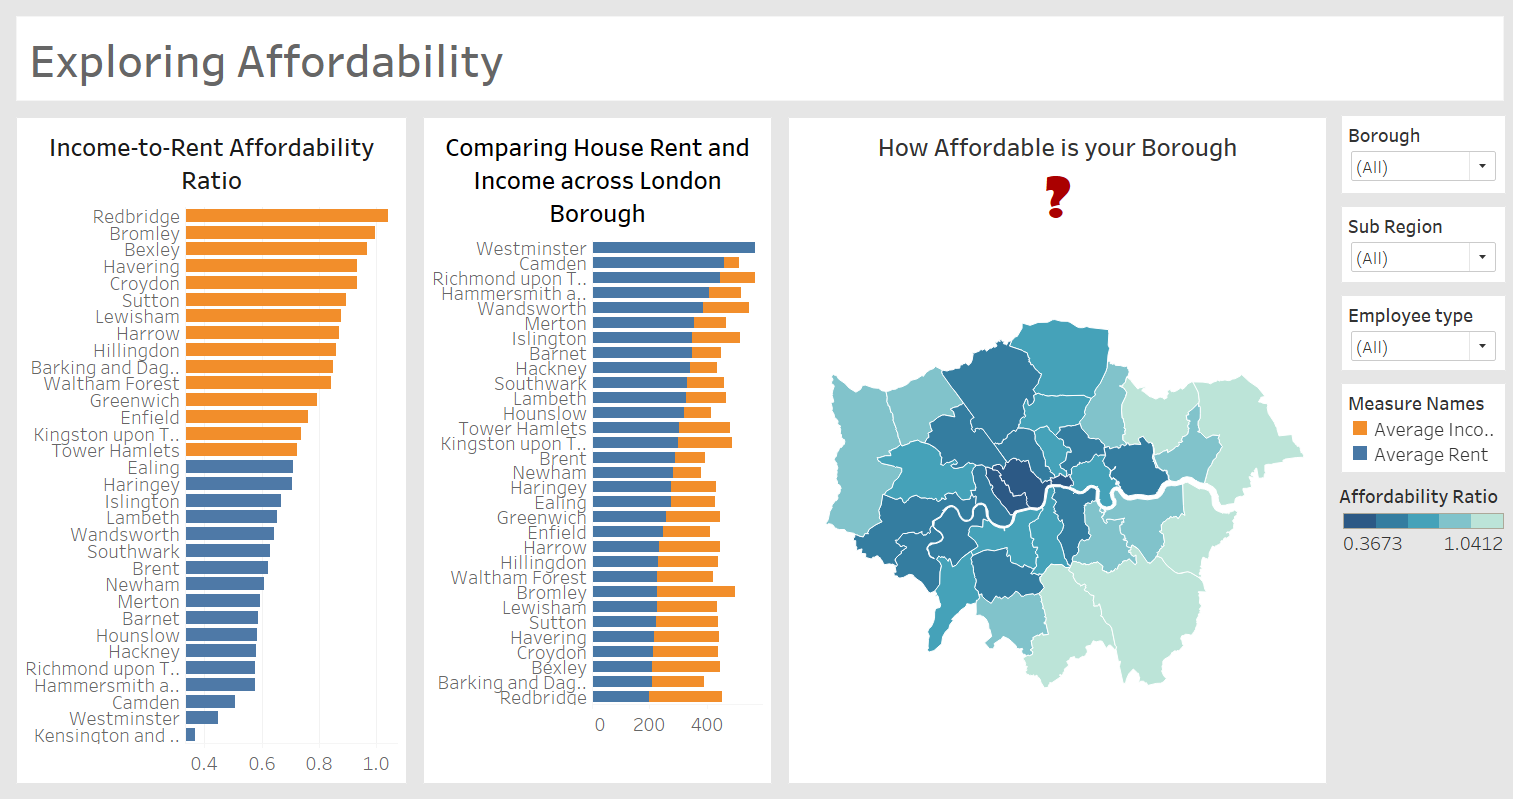

This screenshot's page, from the dashboard's own definition file:
{"tool":"tableau","page":{"name":"Dashboard 3","canvas":[1520,800],"ordinal":2},"visuals":[{"type":"text","box":[8,8,1504,101]},{"type":"worksheet","title":"Affordability Ratio","mark":"Automatic","rows":["Borough"],"cols":["Calculation_346777236112543744"],"box":[8,109,407,682.9]},{"type":"worksheet","title":"Rent & Income Com.","mark":"Bar","rows":["Borough"],"cols":["Pay (£)","Price_weekly"],"box":[415,109,365,682.9]},{"type":"worksheet","title":"Aff. Map","mark":"Multipolygon","box":[780,109,555,682.9]},{"type":"filter","title":"Affordability Ratio","param":"[federated.0mtfeyj0am8fze13vt68h0kjogjt].[none:Borough:nk]","box":[1335,109,177,91]},{"type":"filter","title":"Affordability Ratio","param":"[federated.0mtfeyj0am8fze13vt68h0kjogjt].[Borough (group)]","box":[1335,200,177,89]},{"type":"filter","title":"Rent & Income Com.","param":"[federated.0mtfeyj0am8fze13vt68h0kjogjt].[none:Table Name:nk]","box":[1335,289,177,88]},{"type":"legend","title":"Rent & Income Com.","param":"[federated.0mtfeyj0am8fze13vt68h0kjogjt].[:Measure Names]","box":[1335,377,177,102]},{"type":"legend","title":"Aff. Map","param":"[federated.0mtfeyj0am8fze13vt68h0kjogjt].[usr:Calculation_346777236112543744:qk]","box":[1335,479,177,81]}]}

Visuals, with their boxes in screenshot pixels (x1, y1, x2, y2), scaled from the page's 1520x800 canvas onto the 1513x799 screenshot:
text: [left=8, top=8, right=1505, bottom=109]
"Affordability Ratio" worksheet: [left=8, top=109, right=413, bottom=791]
"Rent & Income Com." worksheet (Bar marks): [left=413, top=109, right=776, bottom=791]
"Aff. Map" worksheet (Multipolygon marks): [left=776, top=109, right=1329, bottom=791]
"Affordability Ratio" filter: [left=1329, top=109, right=1505, bottom=200]
"Affordability Ratio" filter: [left=1329, top=200, right=1505, bottom=289]
"Rent & Income Com." filter: [left=1329, top=289, right=1505, bottom=377]
"Rent & Income Com." legend: [left=1329, top=377, right=1505, bottom=478]
"Aff. Map" legend: [left=1329, top=478, right=1505, bottom=559]
